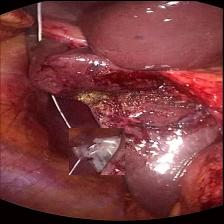Specimen Bag: (70, 127, 125, 174)
